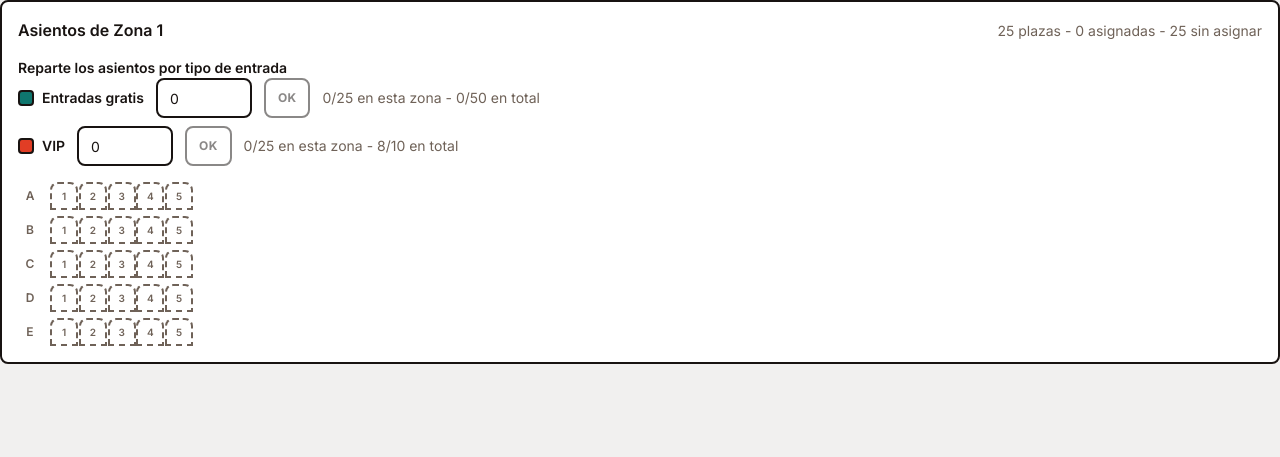
it: ZoneSeatEditor › selecting seats › never places more of a ticket type than it has left
Click the button named "Seleccionar la fila A" at [30, 196], box [18,188,42,204]
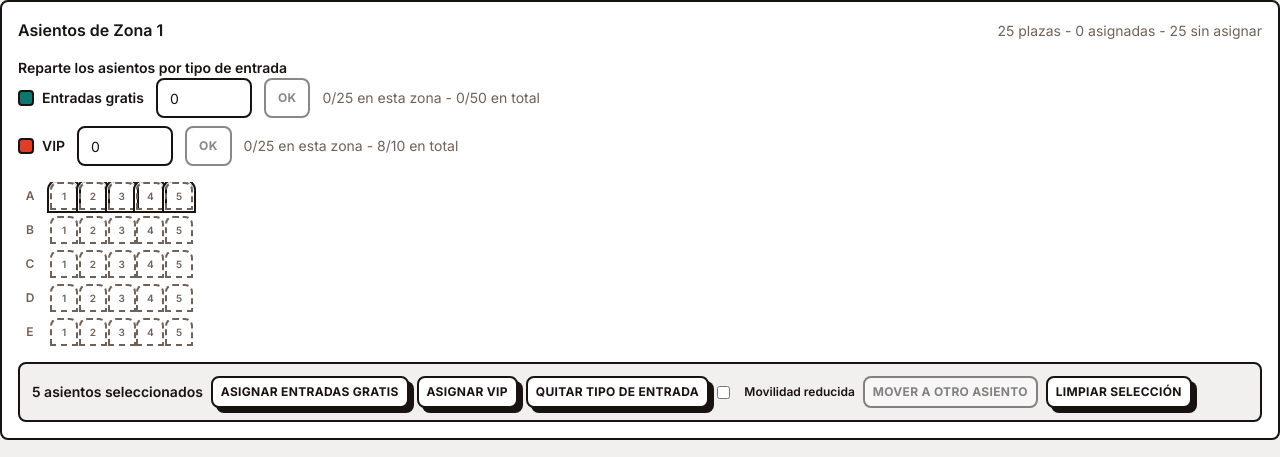
Click the button "Asignar VIP" at [467, 392], box [416,376,518,408]
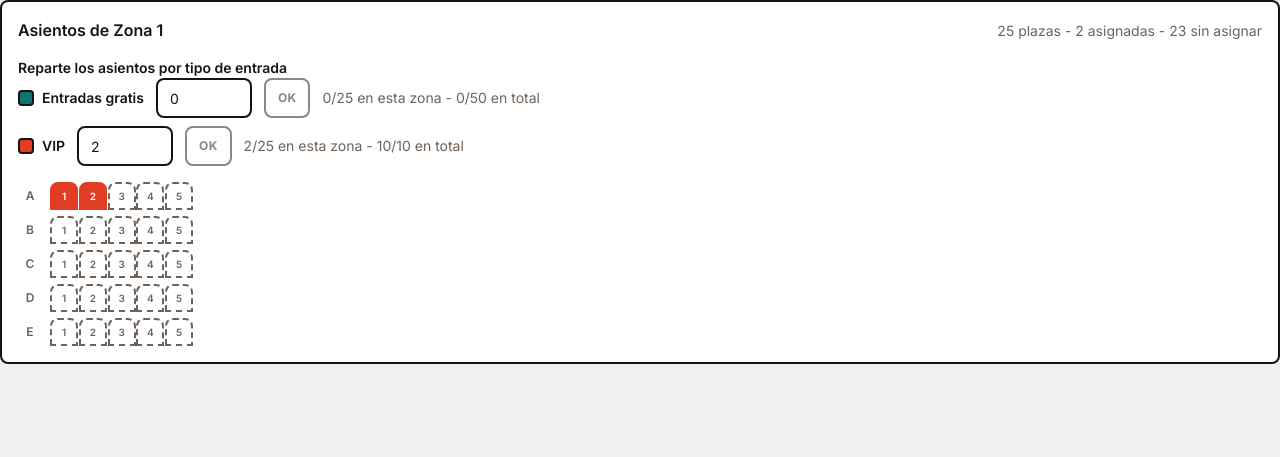
Expected: the text "25 plazas - 2 asignadas - 23 sin asignar" is shown, [997,21,1262,41]
